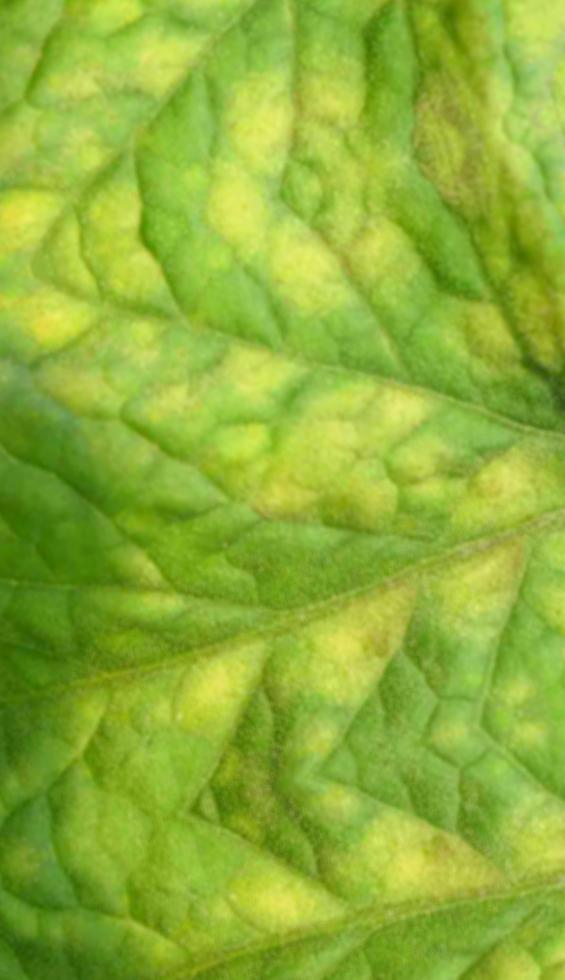Tomato mold leaf: (0, 80, 565, 900)
